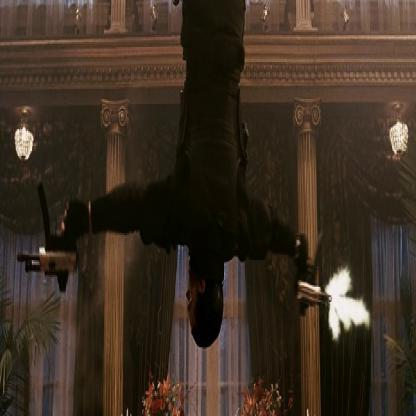Gun: (14, 176, 80, 299), (291, 225, 334, 325)
